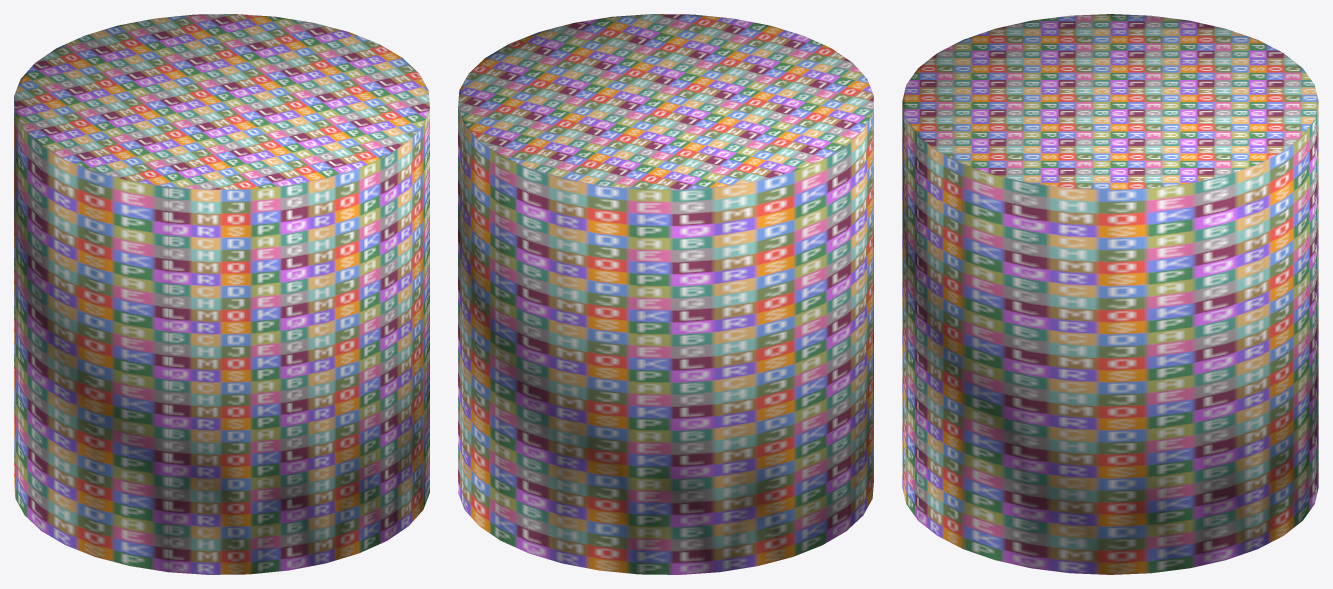
File: unit-cylinder.obj
The picture shows the model from 3 angles, left to right: view 1: azimuth 30°, elevation 25°; view 2: azimuth 150°, elevation 25°; view 3: azimuth 270°, elevation 25°; orthographic projection.
Visible parts, largest first — view 1: Cylinder1; view 2: Cylinder1; view 3: Cylinder1.
Part boxes in pixels (left/top/right/bottom): Cylinder1: left=14, top=14, right=429, bottom=574; Cylinder1: left=458, top=14, right=873, bottom=574; Cylinder1: left=902, top=14, right=1318, bottom=574.
Bounding box in the file's own units: 1.96 × 2 × 1.96.
Materials: 1 (1 with a texture image).
